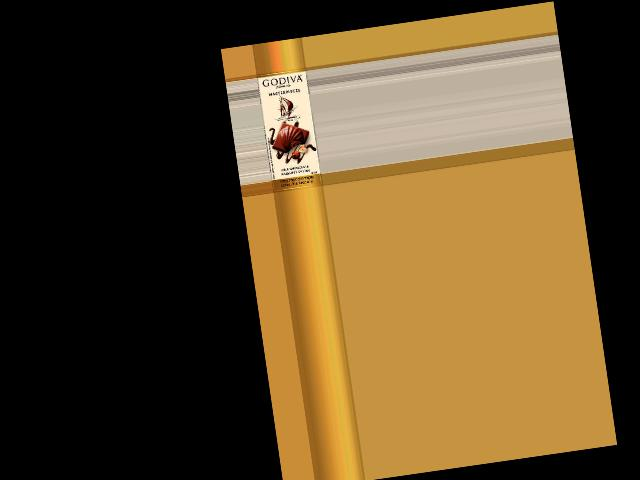chocolate: (257, 67, 323, 192)
